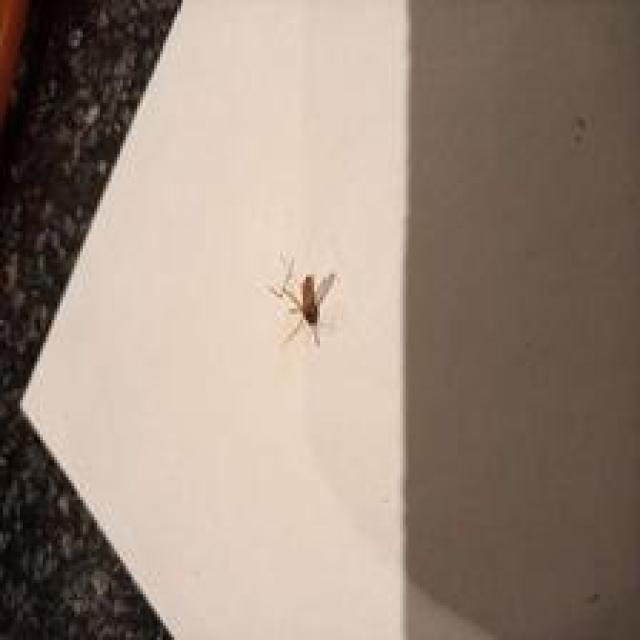Culex: (267, 256, 339, 347)
